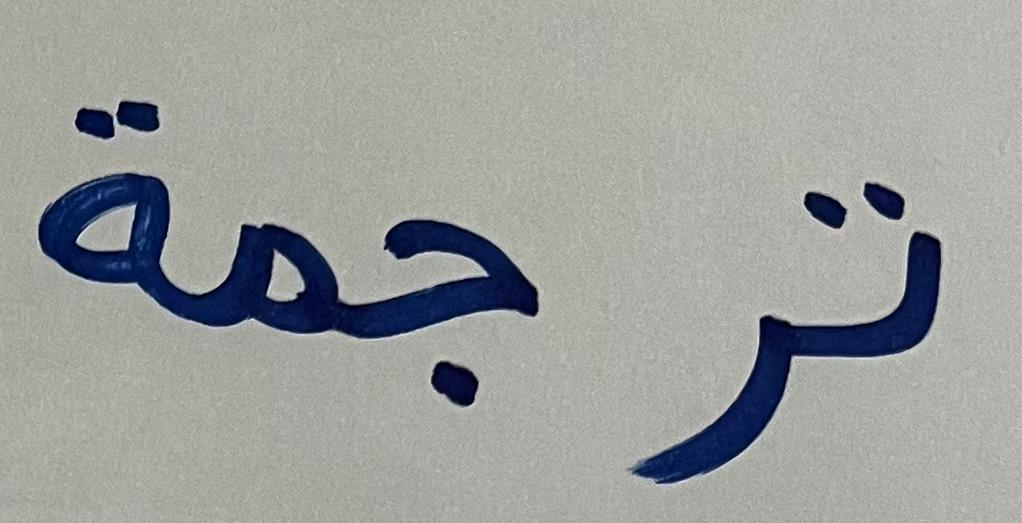jeem: (343, 163, 562, 491)
meem: (189, 153, 339, 449)
reh: (573, 231, 792, 507)
teh: (798, 110, 973, 404)
teh_marbota: (17, 55, 185, 371)
